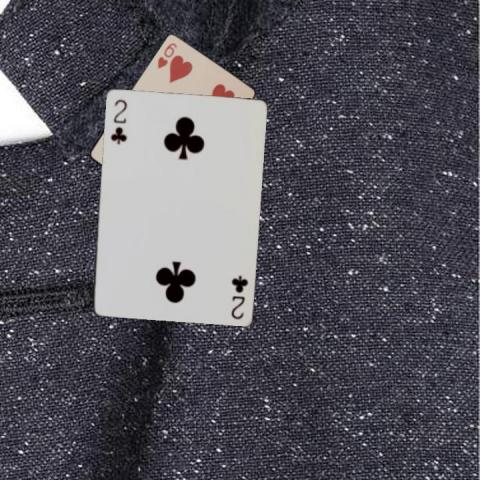2c: (228, 272, 250, 321), (107, 96, 128, 145)
6h: (154, 40, 178, 70)
